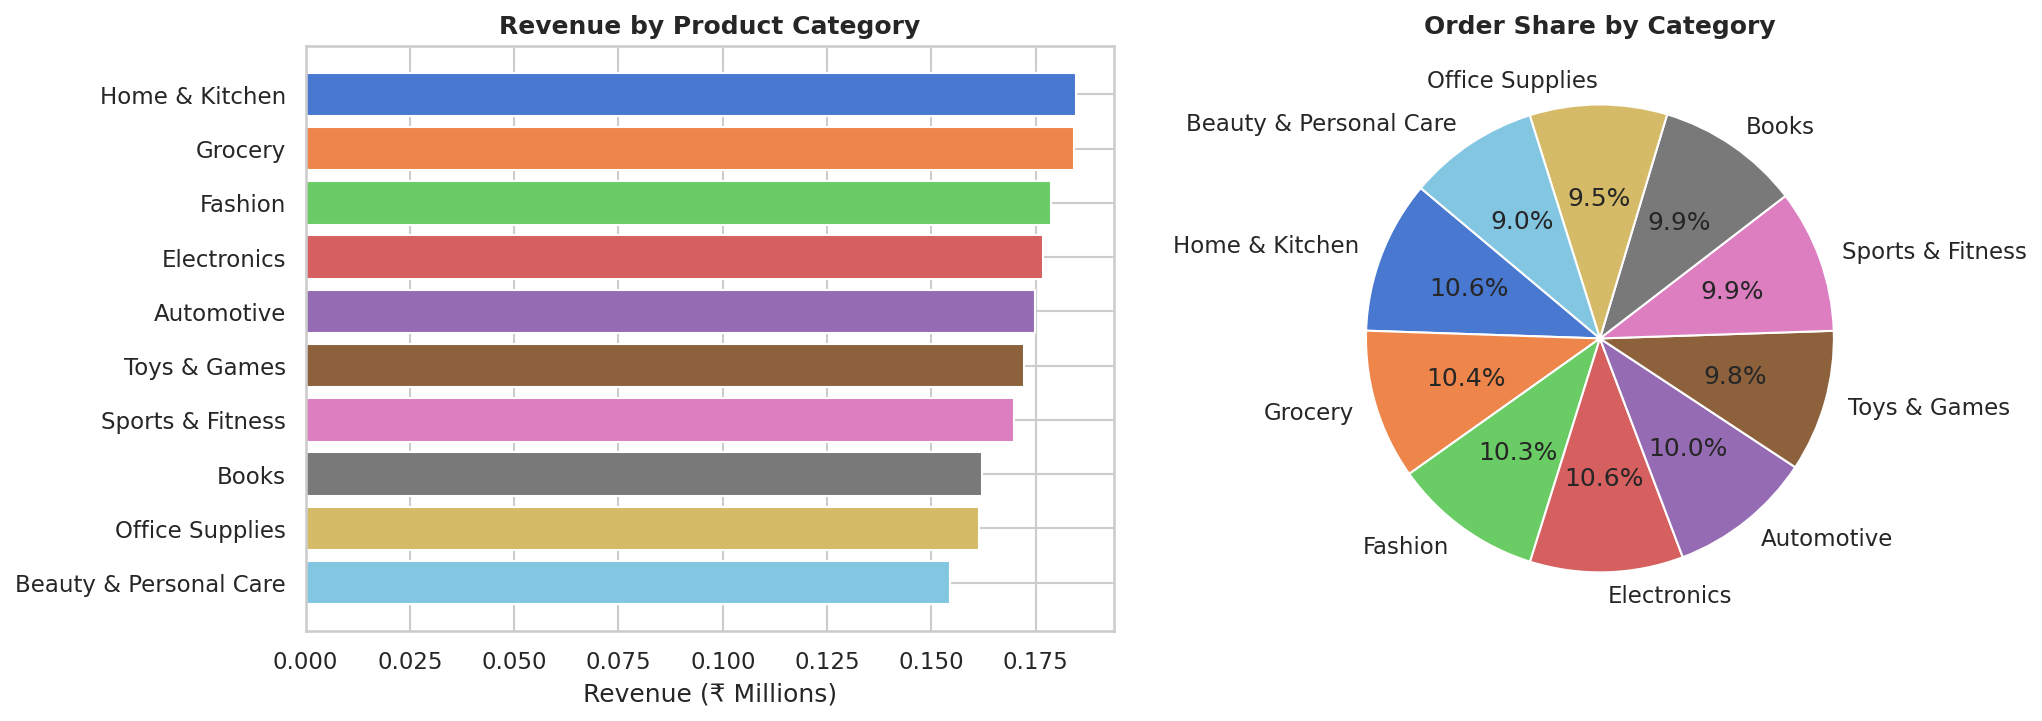

Layout of this report page (visuals, bound fields, positions):
{"tool":"powerbi","page":{"name":"Product & Category Analysis","canvas":[1280,720],"ordinal":1},"visuals":[{"type":"clusteredBarChart","title":"Revenue by Product Category","fields":{"Category":["powerbi_category_revenue.category"],"Y":["Sum(powerbi_category_revenue.revenue)"]},"box":[0,0,560,720],"z":0},{"type":"pieChart","title":"Order Share by Category","fields":{"Category":["powerbi_category_revenue.category"],"Y":["Sum(powerbi_category_revenue.orders)"]},"box":[574,0,706,720],"z":1}]}

Visuals, with their boxes on the page's 1280x720 design canvas (x1, y1, x2, y2). These are canvas units, not pixel positions in the 2042x721 screenshot, which may show the page scaled, cropped or inside an application window:
"Revenue by Product Category" clusteredBarChart: box=[0, 0, 560, 720]
"Order Share by Category" pieChart: box=[574, 0, 1280, 720]
